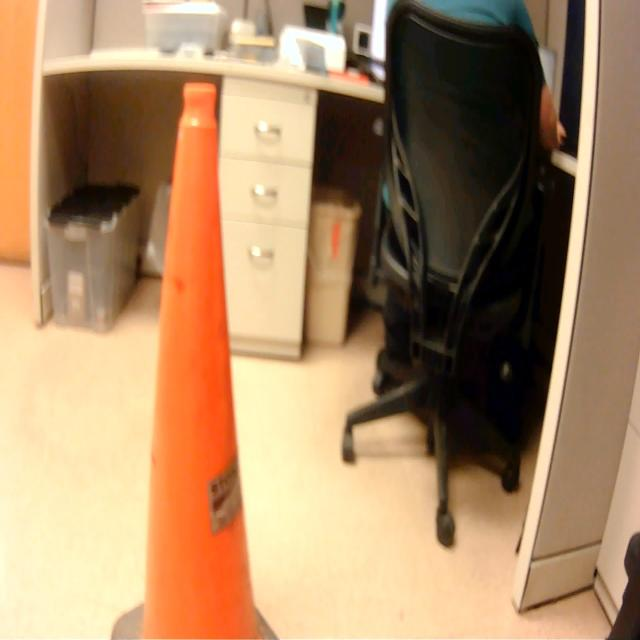traffic cone: (107, 75, 284, 640)
